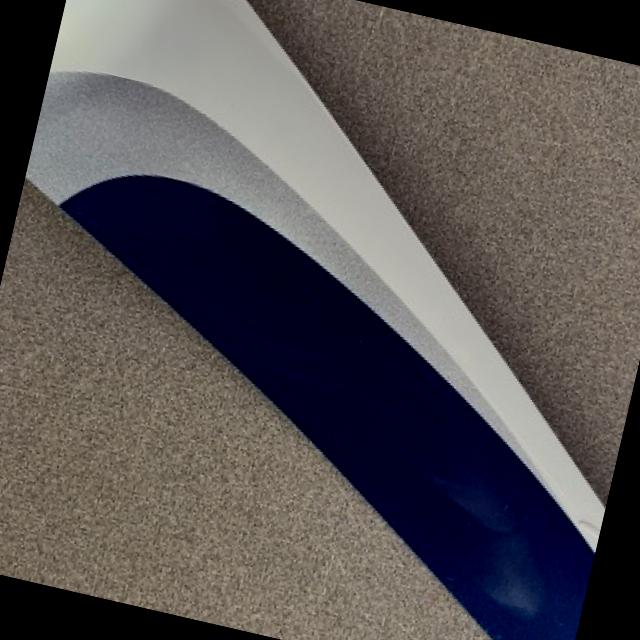healthy: (0, 211, 488, 640)
